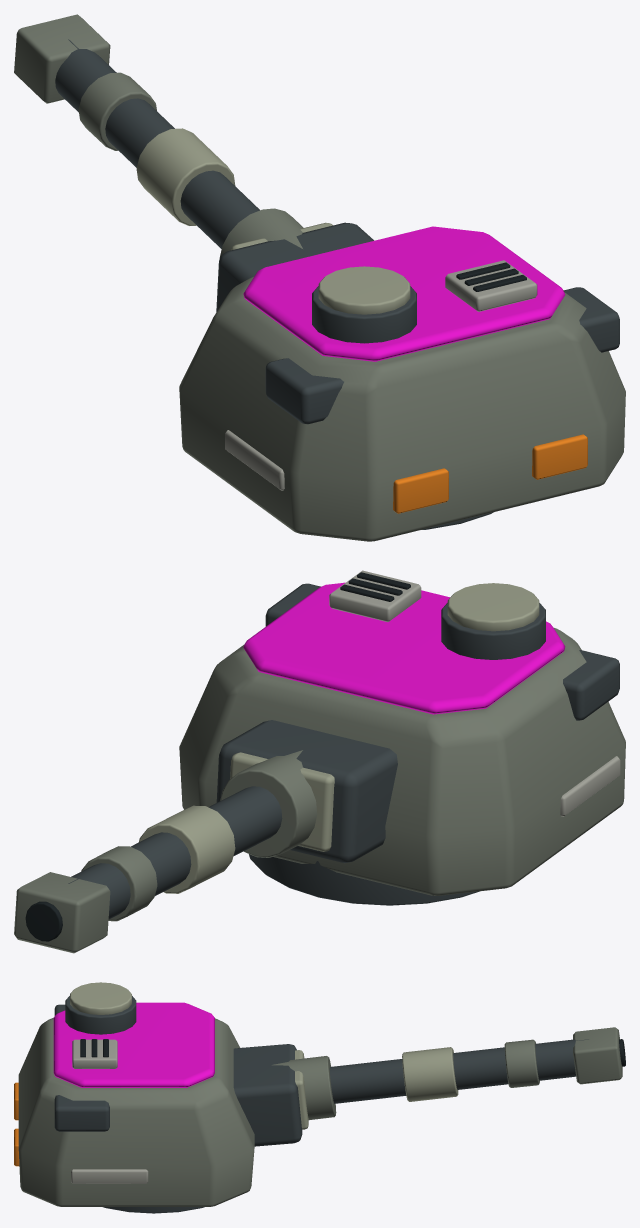
File: wheeled-artillery-turret.glb
3 views of the same model, one above another, from view 1: azimuth 30°, elevation 25°; view 2: azimuth 150°, elevation 25°; view 3: azimuth 270°, elevation 25° (orthographic). The views are drawn at different scales.
Parts seen in each view (by area): view 1: TurretShell; view 2: TurretShell; view 3: TurretShell.
Part boxes in pixels (box(x1,y1,x2,y2)): TurretShell: box(14, 14, 625, 541); TurretShell: box(14, 570, 625, 953); TurretShell: box(14, 982, 625, 1213).
Size of the model in its own units: 1.31 by 0.8485 by 3.01.
